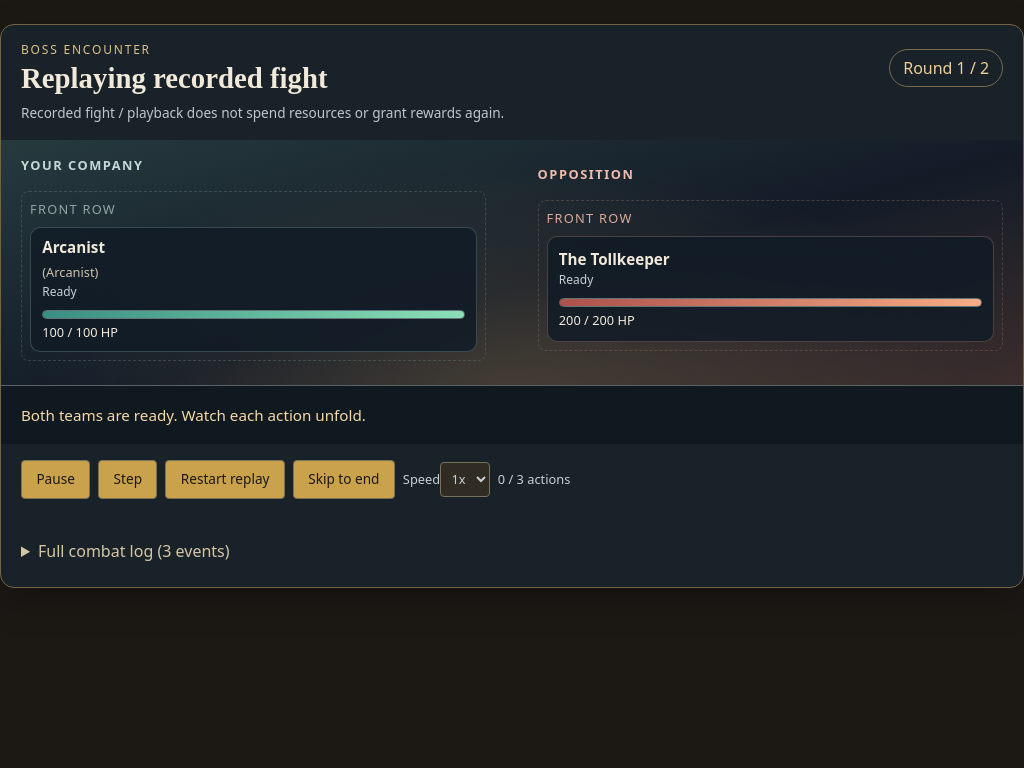
steps authoritative damage, healing, defeat and restarts without granting anything
This screenshot has width=1024, height=768.
expect the text "100 / 100 HP" is shown: met, box [42,323,118,341]
Click the button "Step" at (128, 479), box [98,460,157,498]
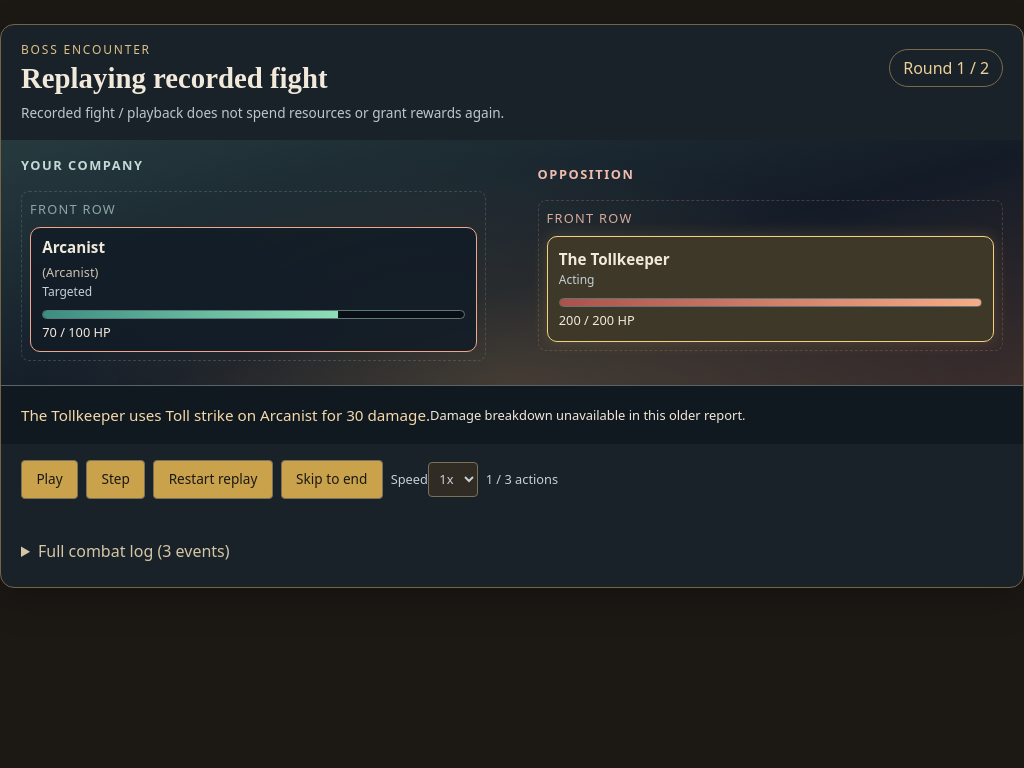
expect the text "70 / 100 HP" is shown: met, box [42,323,111,341]
Click the button "Step" at (116, 479), box [86,460,145,498]
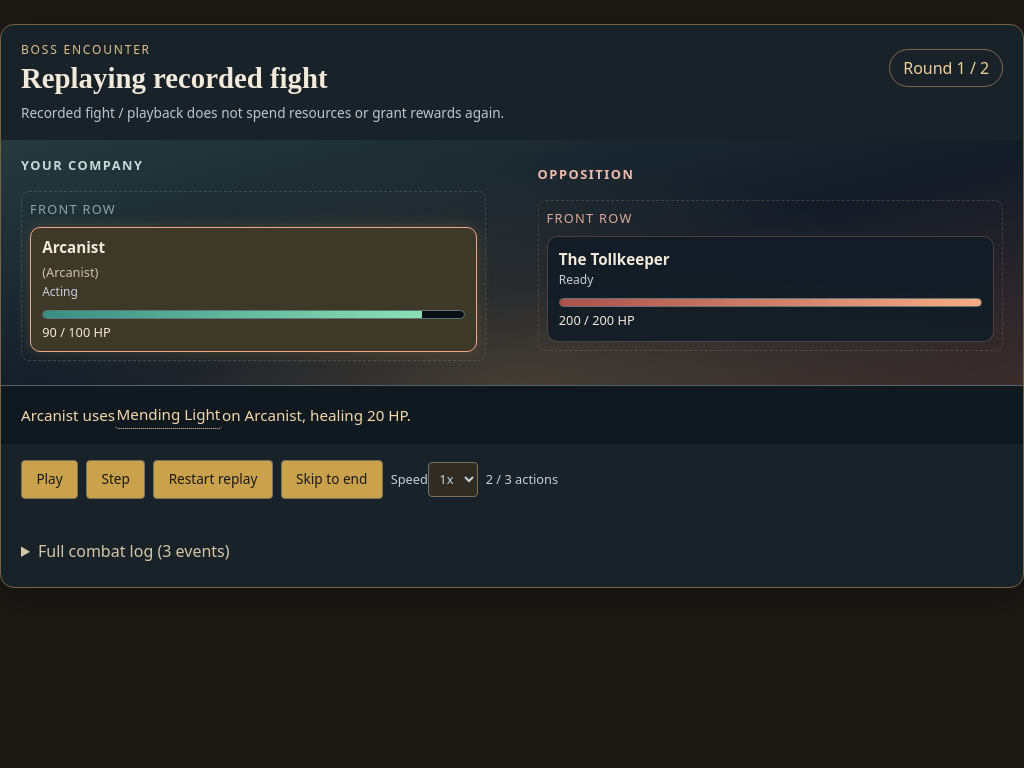
expect the text "90 / 100 HP" is shown: met, box [42,323,111,341]
Click the button "Step" at (116, 479), box [86,460,145,498]
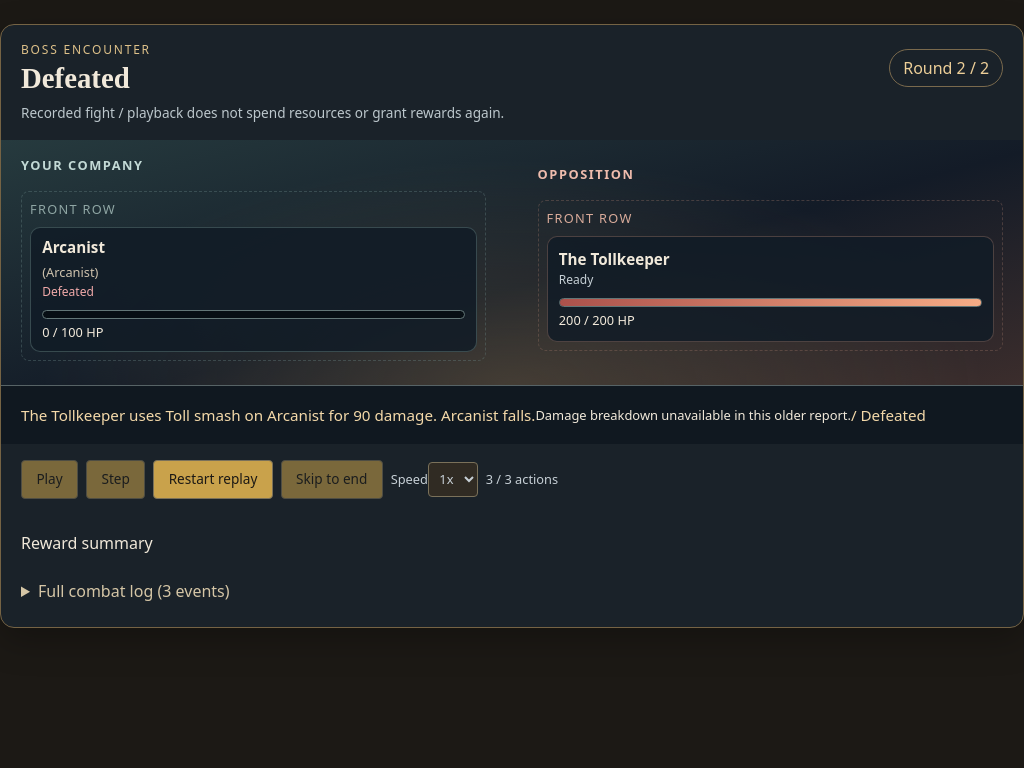
expect the text "0 / 100 HP" is shown: met, box [42,323,104,341]
expect the heading "Defeated" is shown: met, box [21,62,130,94]
expect the text "Reward summary" is shown: met, box [21,532,153,554]
Click the button "Restart replay" at (213, 479), box [153,460,273,498]
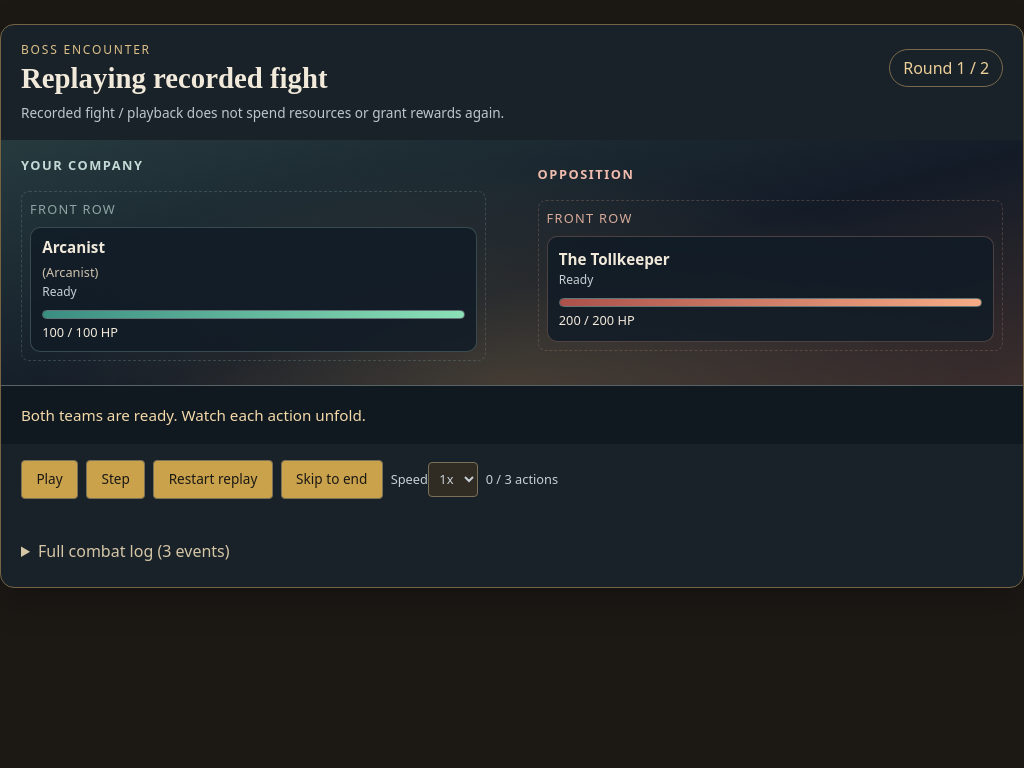
expect the text "100 / 100 HP" is shown: met, box [42,323,118,341]
expect the text "Reward summary" is gone: met
